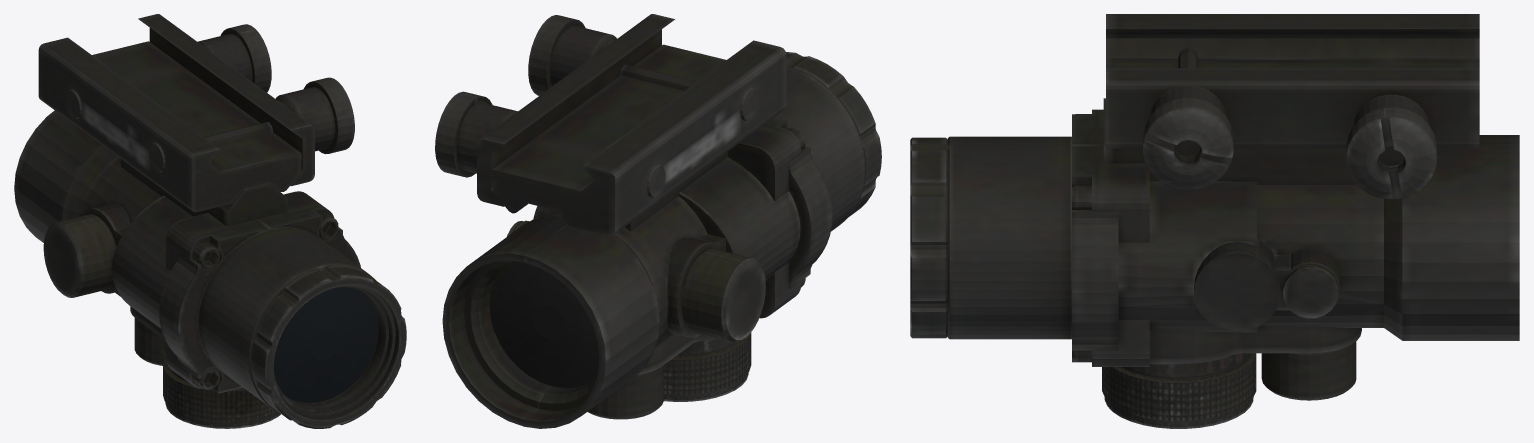
3 renders of one model, left to right at view 1: azimuth 30°, elevation 25°; view 2: azimuth 150°, elevation 25°; view 3: azimuth 270°, elevation 25°, orthographic. The views are drawn at different scales.
Visible parts, largest first — view 1: TW_5d2dc3e548f035404a1a4798_mode1_PZ_Import; view 2: TW_5d2dc3e548f035404a1a4798_mode1_PZ_Import; view 3: TW_5d2dc3e548f035404a1a4798_mode1_PZ_Import.
Part boxes in pixels (box(x1,y1,x2,y2)): TW_5d2dc3e548f035404a1a4798_mode1_PZ_Import: box(14, 14, 406, 428); TW_5d2dc3e548f035404a1a4798_mode1_PZ_Import: box(435, 14, 881, 428); TW_5d2dc3e548f035404a1a4798_mode1_PZ_Import: box(910, 14, 1519, 428).
Size of the model in its own units: 0.0315 by 0.0587 by 0.0388.
Materials: 1 (1 with a texture image).
